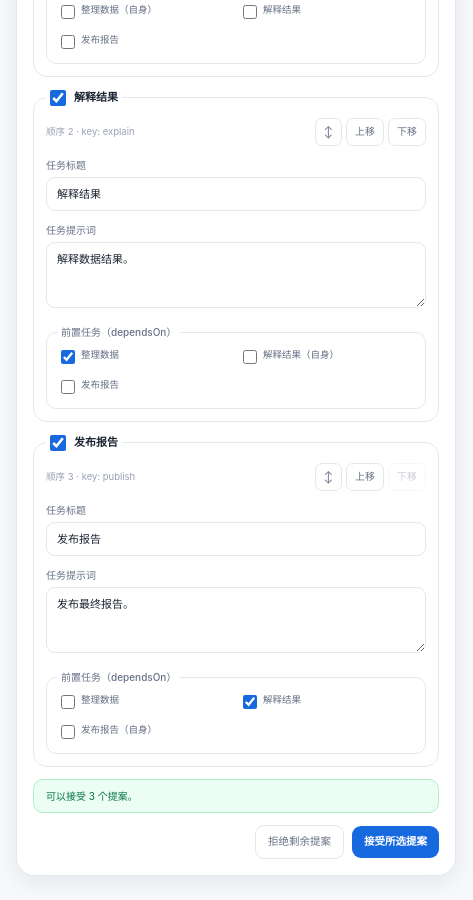
Canvas Task proposal review integration › keeps the review pending when the settlement loses daemon CAS
(page scrolled)
Click the button with test id "proposal-reject": (300, 842) [255,825,344,859]
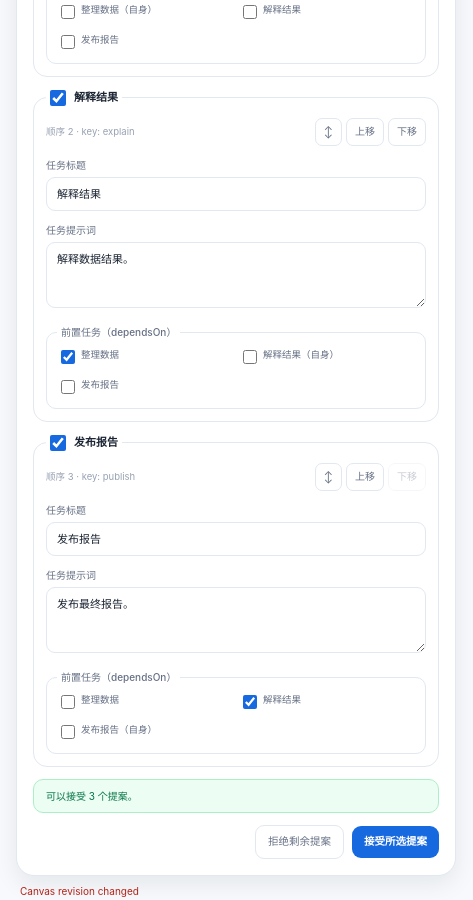
Result: the message "Canvas revision changed" is shown at [20,885,139,897]
